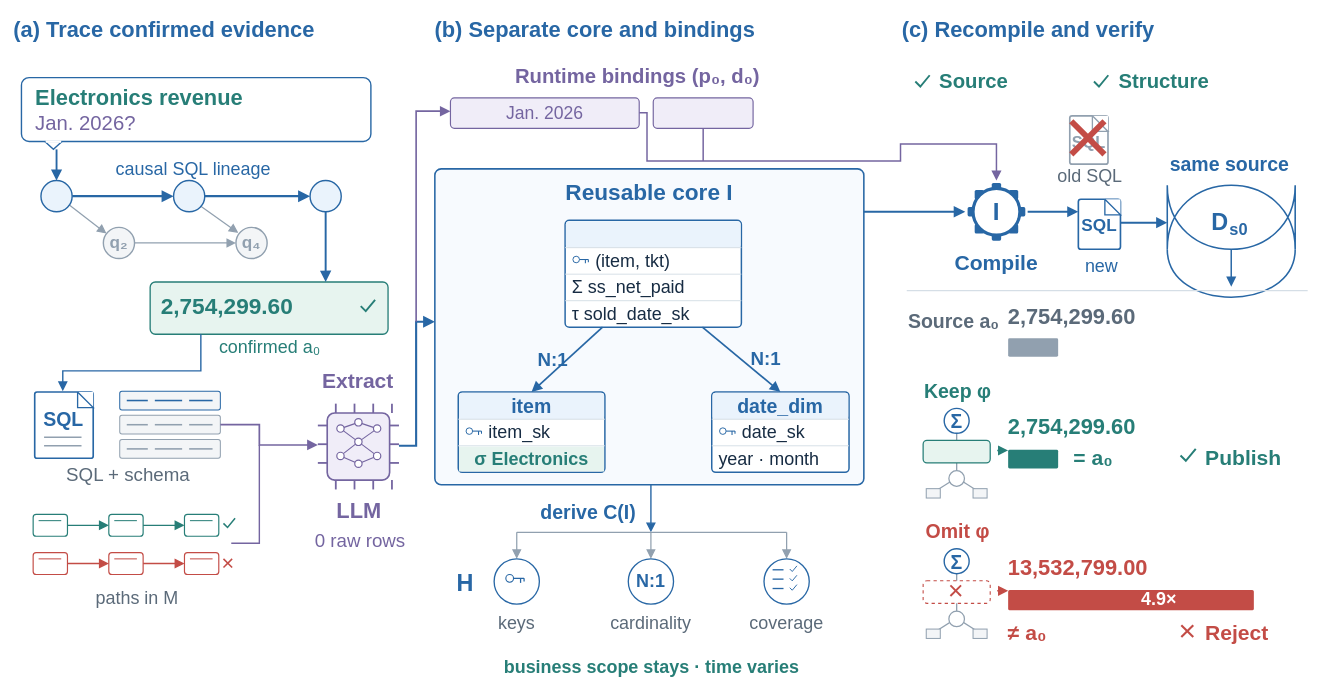
Image size: 1336x691. Some labels were removed from this diagram. The centre of each missing label's shape, as x and y in pixels:
d₀ = id: (702,113)
q₁: (56,195)
q₃: (188,195)
q₅: (325,195)
store_sales: (653,234)
σ Elec.: (956,451)
